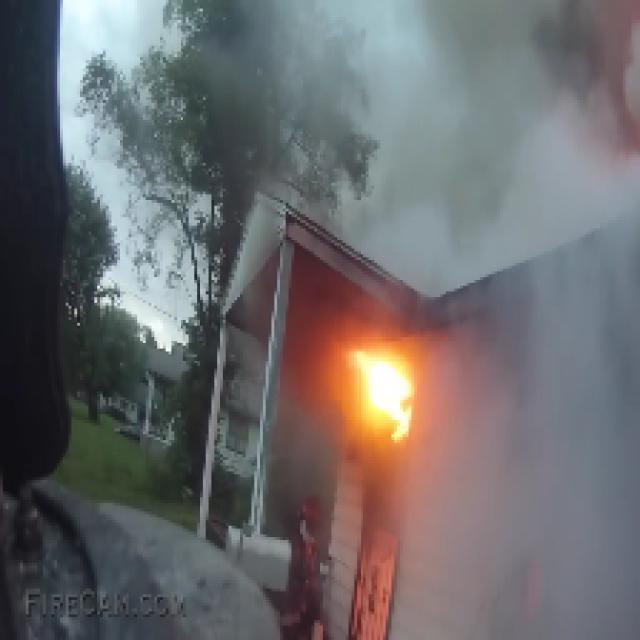Fire: (314, 306, 420, 468)
Smoke: (245, 8, 640, 637)
